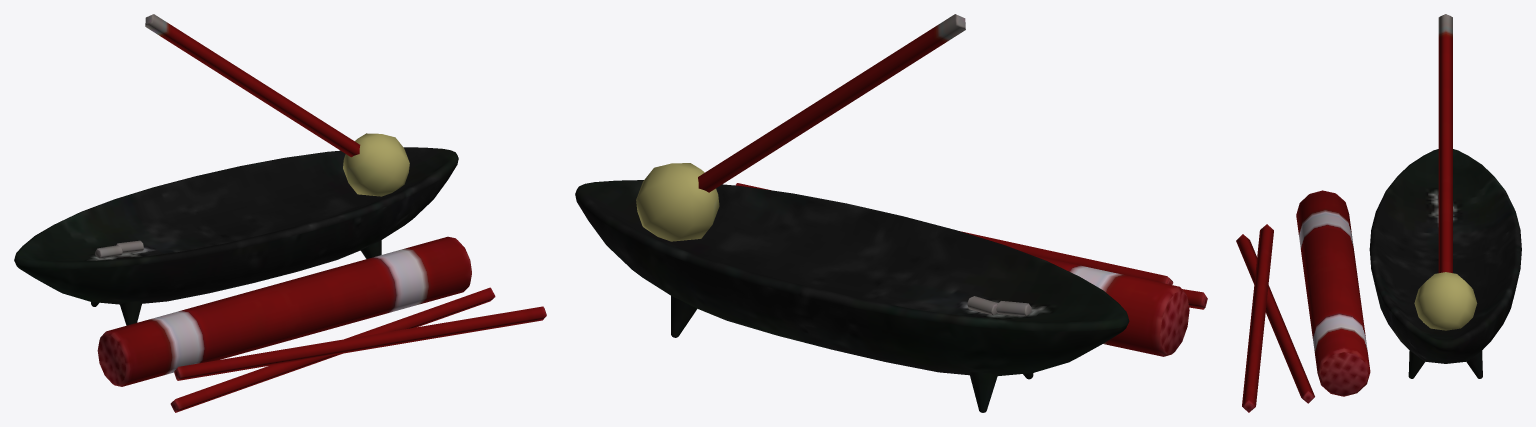
3 views of the same model, side by side, from view 1: azimuth 30°, elevation 25°; view 2: azimuth 150°, elevation 25°; view 3: azimuth 270°, elevation 25° (orthographic). The views are drawn at different scales.
Bounding box in the file's own units: 6.89 × 4.43 × 4.21.
1 material, 1 textured.
